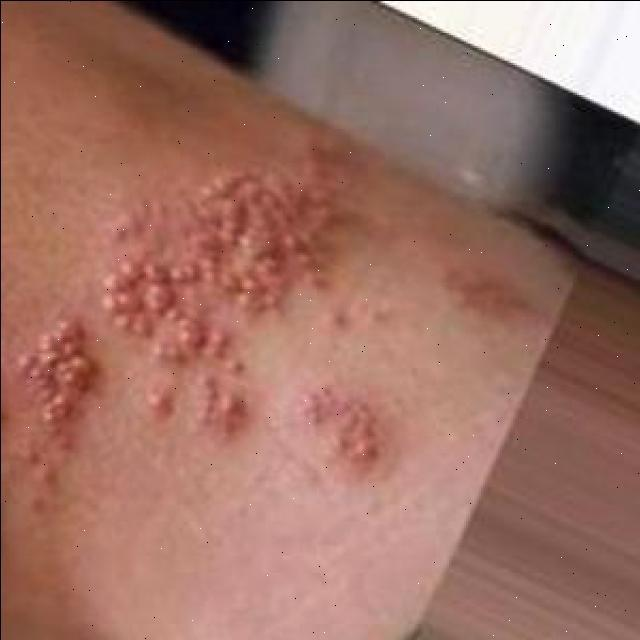Shingles: (100, 164, 354, 361), (15, 314, 96, 437), (144, 364, 255, 445), (293, 386, 383, 474)
